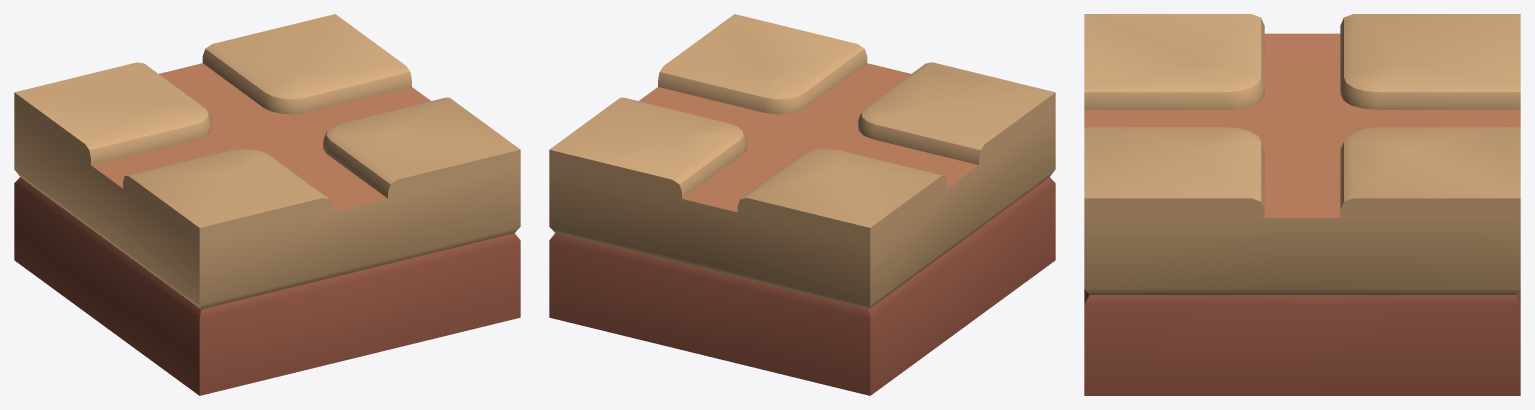
The model's file is square_sand_roadE_detail.glb.
3 renders of one model, left to right at view 1: azimuth 30°, elevation 25°; view 2: azimuth 150°, elevation 25°; view 3: azimuth 270°, elevation 25°, orthographic. The views are drawn at different scales.
Visible parts, largest first — view 1: square_sand_roadE_detail; view 2: square_sand_roadE_detail; view 3: square_sand_roadE_detail.
Boxes of the visible parts, x1=… form: square_sand_roadE_detail: x1=14, y1=14, x2=520, y2=395; square_sand_roadE_detail: x1=549, y1=14, x2=1055, y2=395; square_sand_roadE_detail: x1=1084, y1=14, x2=1520, y2=395.
Bounding box in the file's own units: 2 × 1 × 2.
